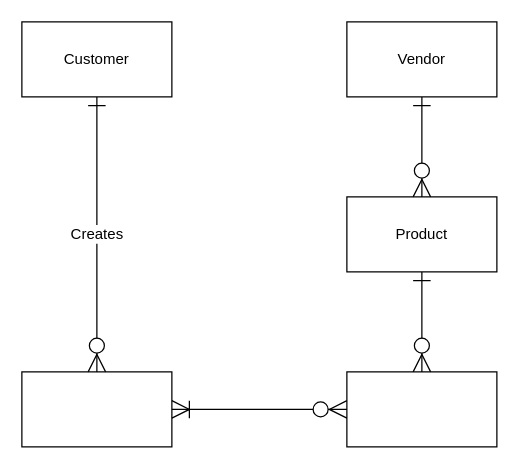
The diagram is 519 pixels wide and 469 high, and some of its shapes have lost their labels. Here are the shapes that lost their labels. From the top down, the box of each, then its label:
(21, 371, 172, 447): Invoice
(346, 371, 497, 447): Line
